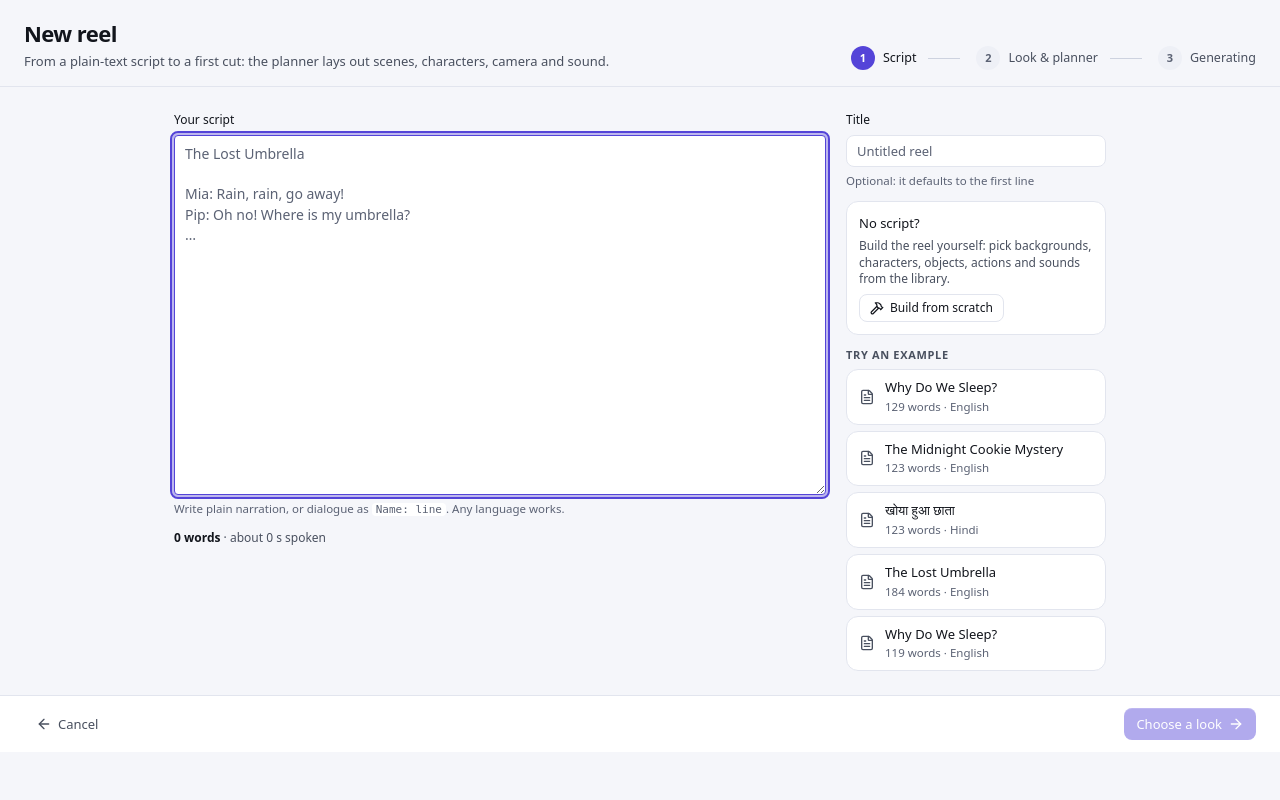
Scenario: the new-reel wizard › offers to build the reel by hand instead, from the library, with no script
Expected: the text "No script?" is shown, [859, 214, 920, 232]
Click the button "Build from scratch".
click(931, 308)  # box [859, 294, 1004, 322]
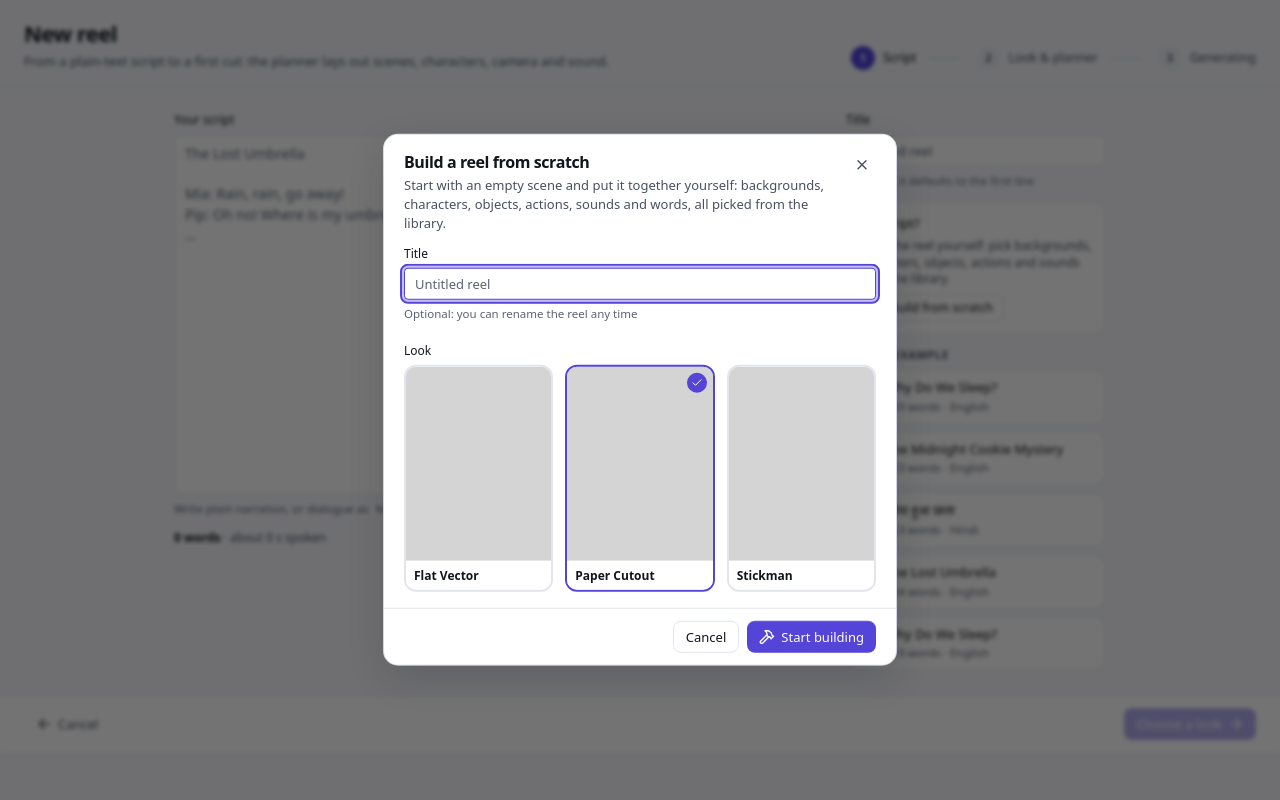
Expected: the dialog "Build a reel from scratch" is shown, [384, 135, 896, 665]
